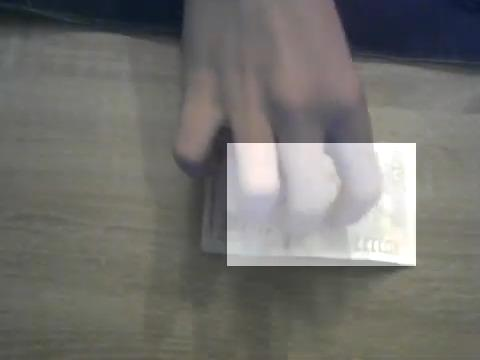10leva: (227, 143, 416, 266)
